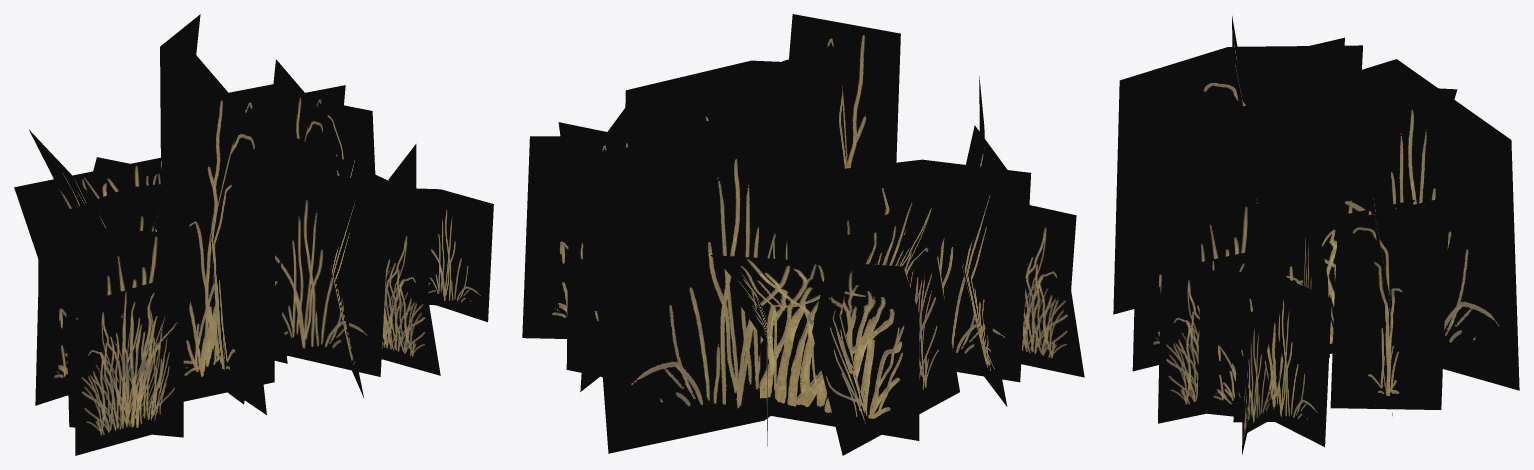
The model's file is dry_grass.glb.
The picture shows the model from 3 angles, left to right: view 1: azimuth 30°, elevation 25°; view 2: azimuth 150°, elevation 25°; view 3: azimuth 270°, elevation 25°; orthographic projection. The views are drawn at different scales.
Parts seen in each view (by area): view 1: clump_dry_grass_11, clump_dry_grass_10, clump_dry_grass_7, clump_dry_grass_8, clump_dry_grass_9, clump_dry_grass_6, clump_dry_grass_5; view 2: clump_dry_grass_8, clump_dry_grass_11, clump_dry_grass_10, clump_dry_grass_6, clump_dry_grass_7, clump_dry_grass_5; view 3: clump_dry_grass_8, clump_dry_grass_5, clump_dry_grass_7, clump_dry_grass_9, clump_dry_grass_11, clump_dry_grass_10, clump_dry_grass_6.
Boxes of the visible parts, x1=… form: clump_dry_grass_11: x1=35, y1=182, x2=195, y2=455; clump_dry_grass_10: x1=171, y1=44, x2=287, y2=414; clump_dry_grass_7: x1=275, y1=139, x2=440, y2=397; clump_dry_grass_8: x1=14, y1=14, x2=287, y2=404; clump_dry_grass_9: x1=388, y1=144, x2=493, y2=322; clump_dry_grass_6: x1=285, y1=102, x2=407, y2=218; clump_dry_grass_5: x1=273, y1=59, x2=345, y2=168; clump_dry_grass_8: x1=586, y1=88, x2=966, y2=455; clump_dry_grass_11: x1=827, y1=76, x2=1084, y2=406; clump_dry_grass_10: x1=782, y1=14, x2=900, y2=261; clump_dry_grass_6: x1=522, y1=108, x2=661, y2=376; clump_dry_grass_7: x1=624, y1=60, x2=785, y2=135; clump_dry_grass_5: x1=566, y1=128, x2=645, y2=391; clump_dry_grass_8: x1=1218, y1=59, x2=1519, y2=390; clump_dry_grass_5: x1=1330, y1=182, x2=1449, y2=415; clump_dry_grass_7: x1=1132, y1=161, x2=1288, y2=423; clump_dry_grass_9: x1=1197, y1=269, x2=1331, y2=454; clump_dry_grass_11: x1=1113, y1=45, x2=1362, y2=314; clump_dry_grass_10: x1=1177, y1=16, x2=1344, y2=203; clump_dry_grass_6: x1=1301, y1=158, x2=1329, y2=358.
Bounding box in the file's own units: 1.37 × 0.9476 × 1.08.
1 material, 1 textured.
